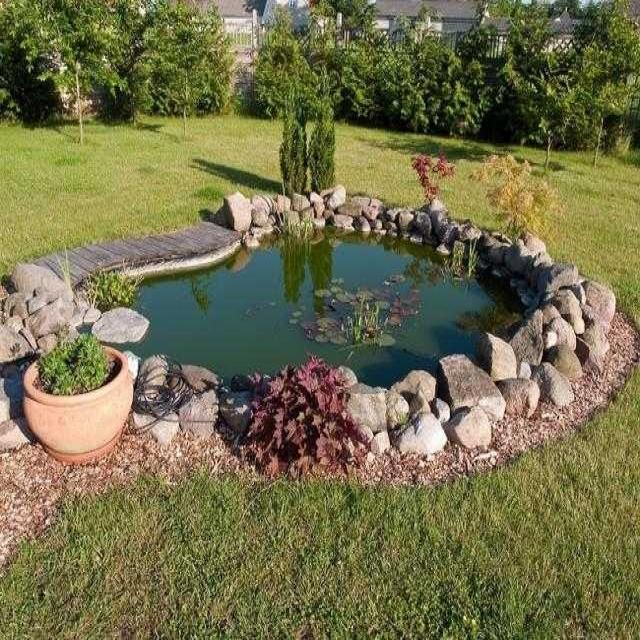Ponds: (1, 186, 617, 464)
